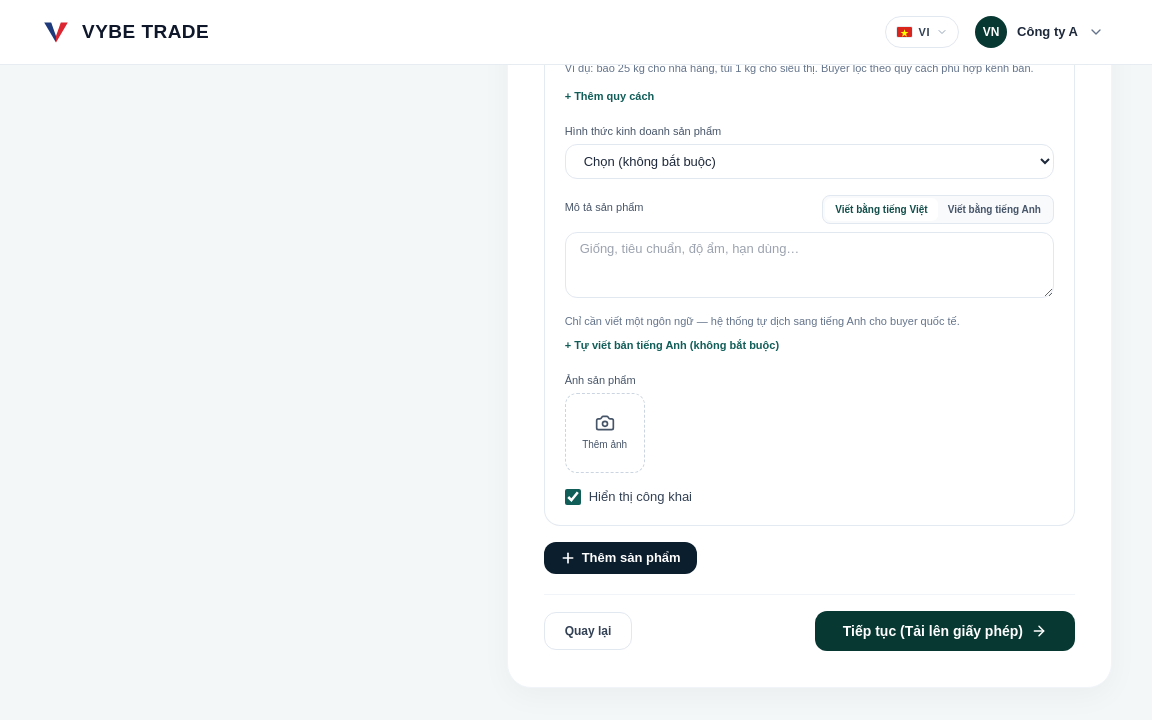
Test case: A2 — wizard lưu nháp từng bước › bước 2: bấm Tiếp tục lưu sản phẩm lên server rồi mới sang bước 3
The width and height of the screenshot is (1152, 720).
(page scrolled)
Click the button "Tiếp tục (Tải lên giấy phép)".
click(945, 630)  # box [815, 610, 1075, 650]
(page scrolled)
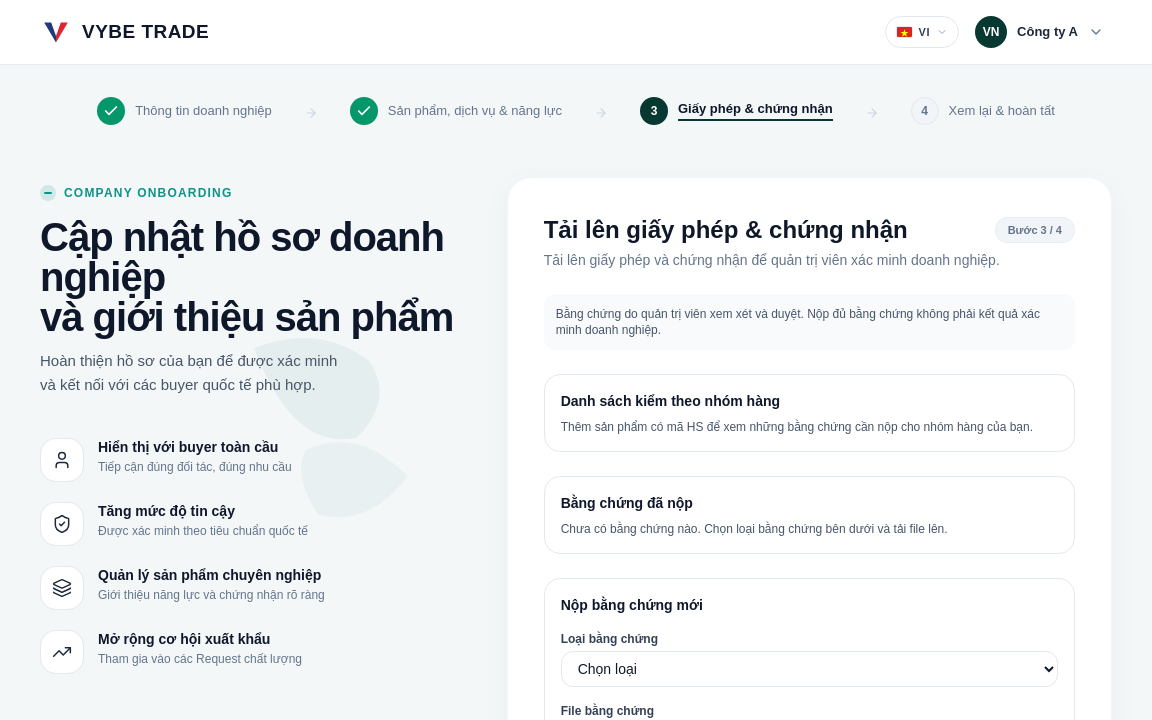
Expected: the heading "Tải lên giấy phép & chứng nhận" is shown, [544, 214, 908, 246]
